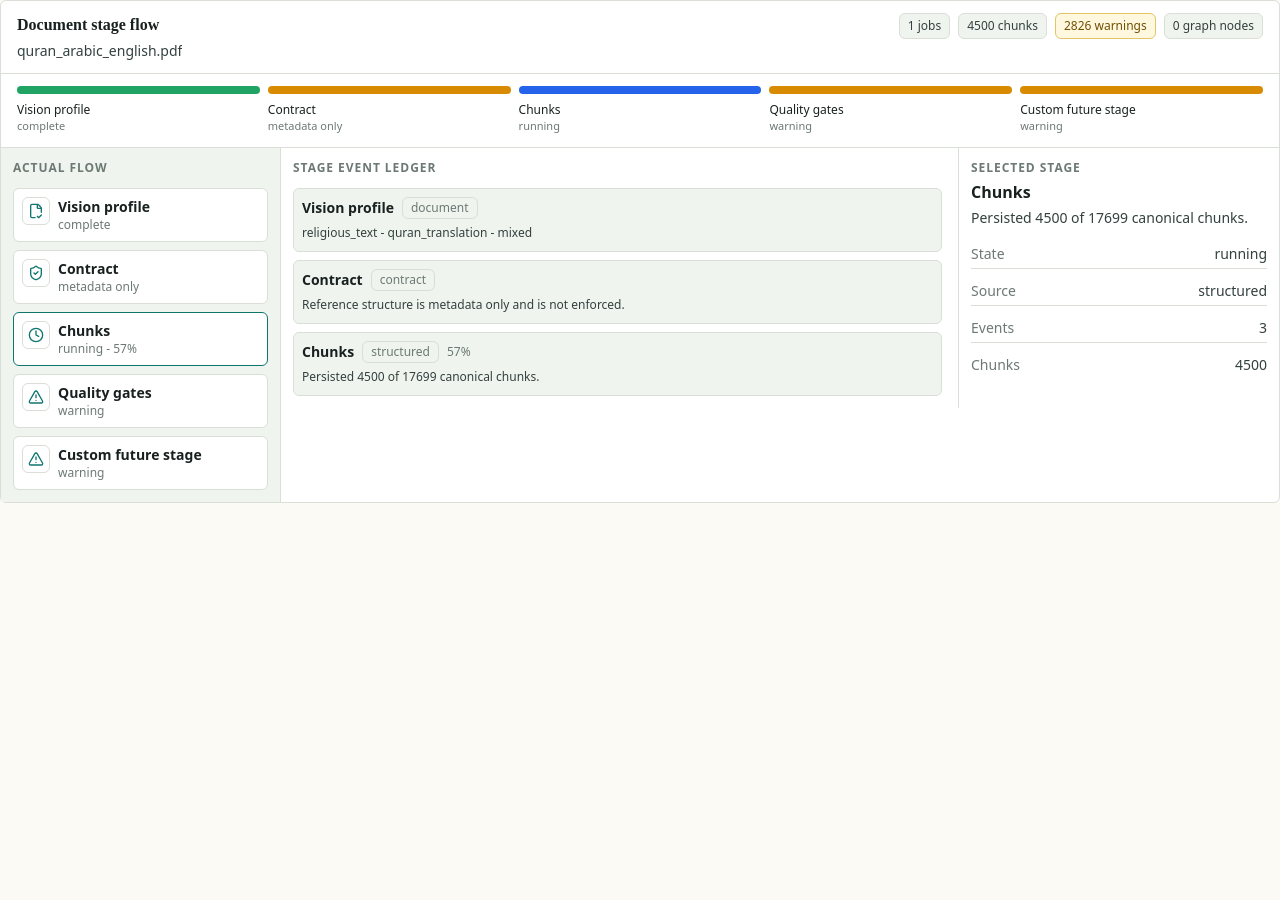
Test: DocumentPipelineStageFlow › keeps warning groups separated by warning code and expected script
The image size is (1280, 900).
Step 1. Click the button "Quality gates warning" → (140, 400), box [13,374,268,428]
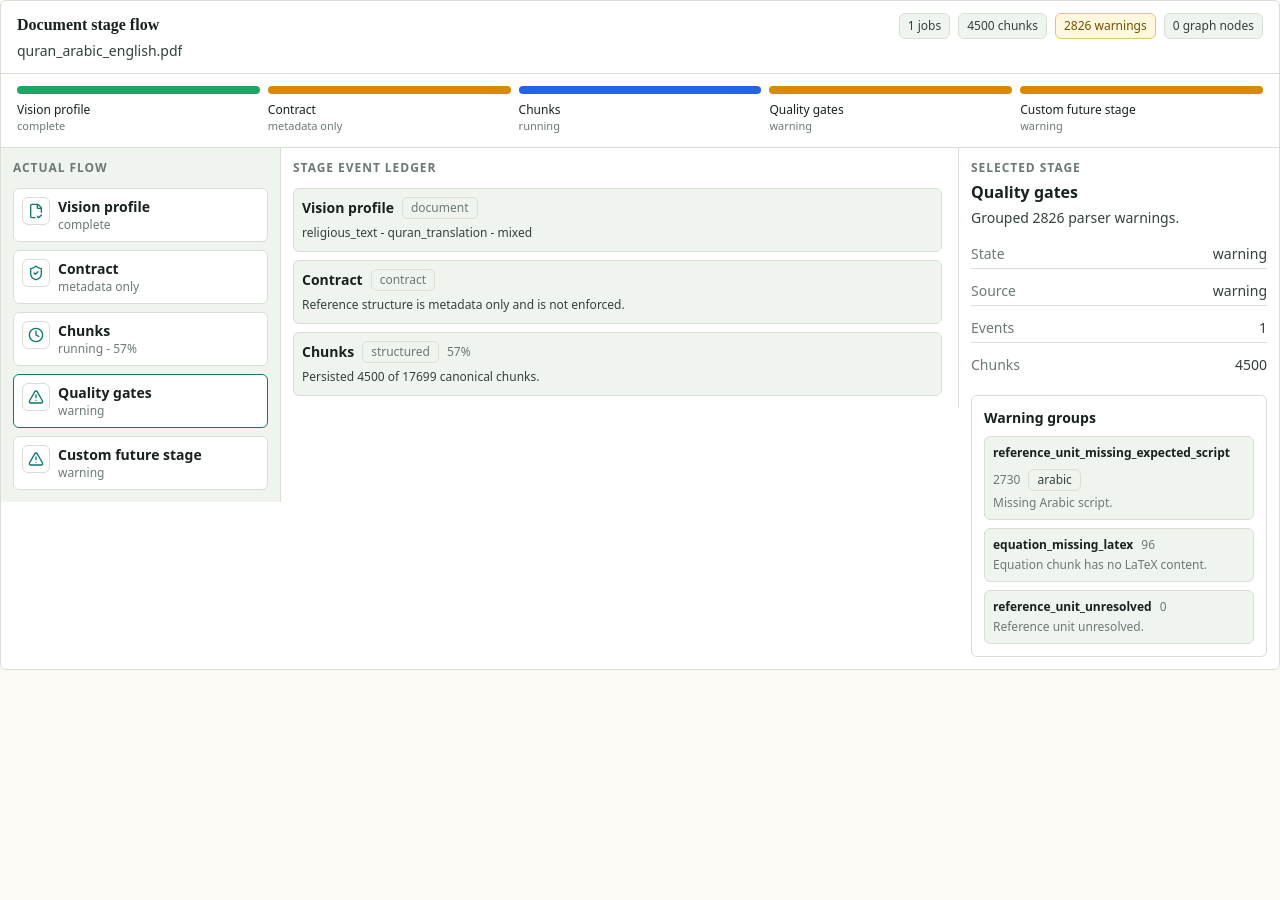
expect the text "reference_unit_missing_expected_script" is shown: met, box [993,444,1230,460]
expect the text "arabic" is shown: met, box [1028,468,1081,490]
expect the text "equation_missing_latex" is shown: met, box [993,536,1133,552]
